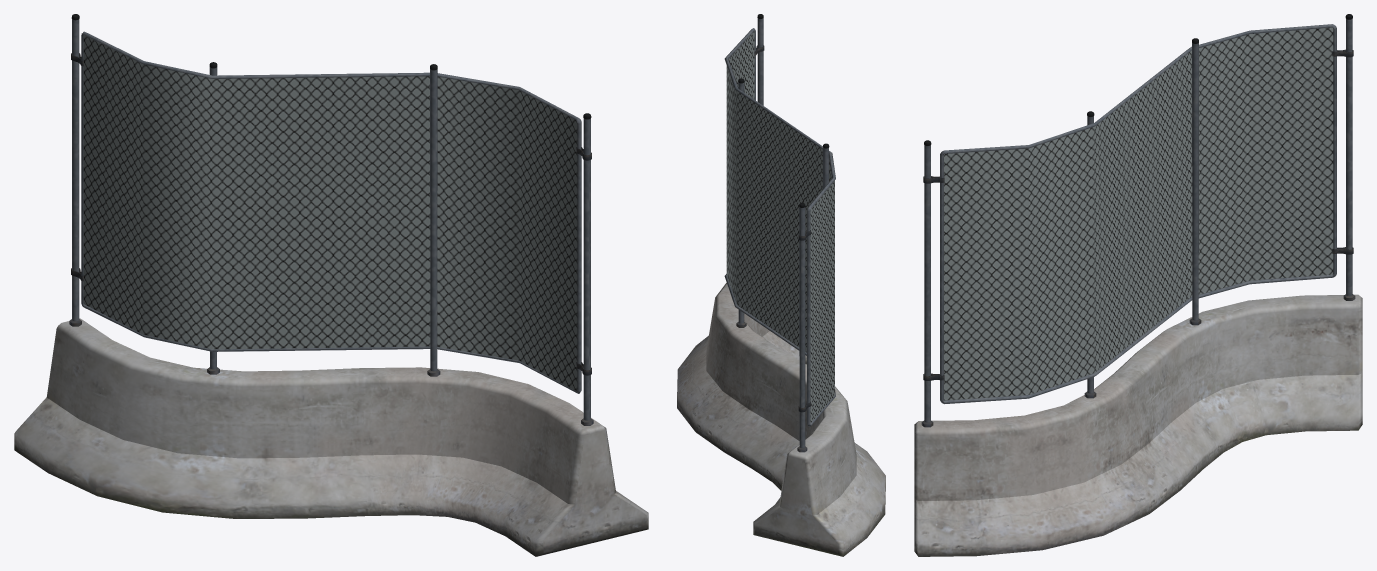
The model's file is Fence_A_F.fbx.
3 renders of one model, left to right at view 1: azimuth 30°, elevation 25°; view 2: azimuth 150°, elevation 25°; view 3: azimuth 270°, elevation 25°, orthographic. The views are drawn at different scales.
Visible parts, largest first — view 1: Fence_A_F_Wire_LOD0, Fence_A_F_LOD0; view 2: Fence_A_F_LOD0, Fence_A_F_Wire_LOD0; view 3: Fence_A_F_Wire_LOD0, Fence_A_F_LOD0.
Boxes of the visible parts, <box> form: Fence_A_F_Wire_LOD0: <box>81,33,577,391</box>; Fence_A_F_LOD0: <box>14,14,648,556</box>; Fence_A_F_LOD0: <box>677,14,885,556</box>; Fence_A_F_Wire_LOD0: <box>726,31,834,423</box>; Fence_A_F_Wire_LOD0: <box>944,27,1333,400</box>; Fence_A_F_LOD0: <box>914,14,1362,556</box>.
Size of what is drawn, in the model's own units: 280 by 288 by 300.
